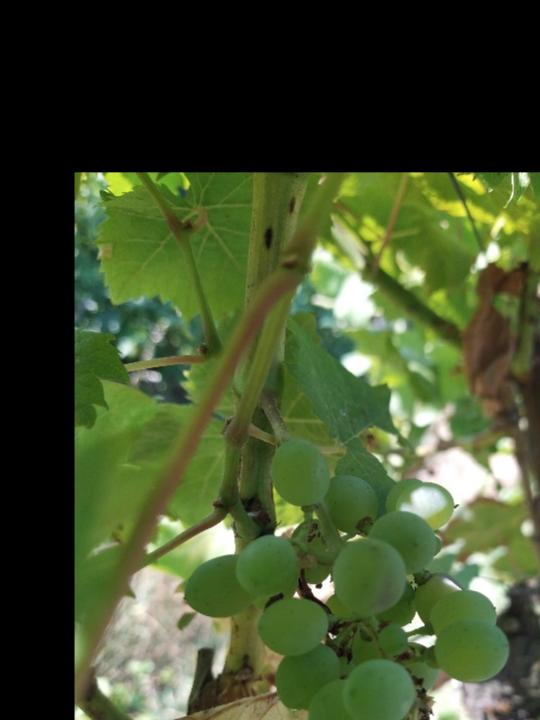grape: (181, 436, 515, 720)
